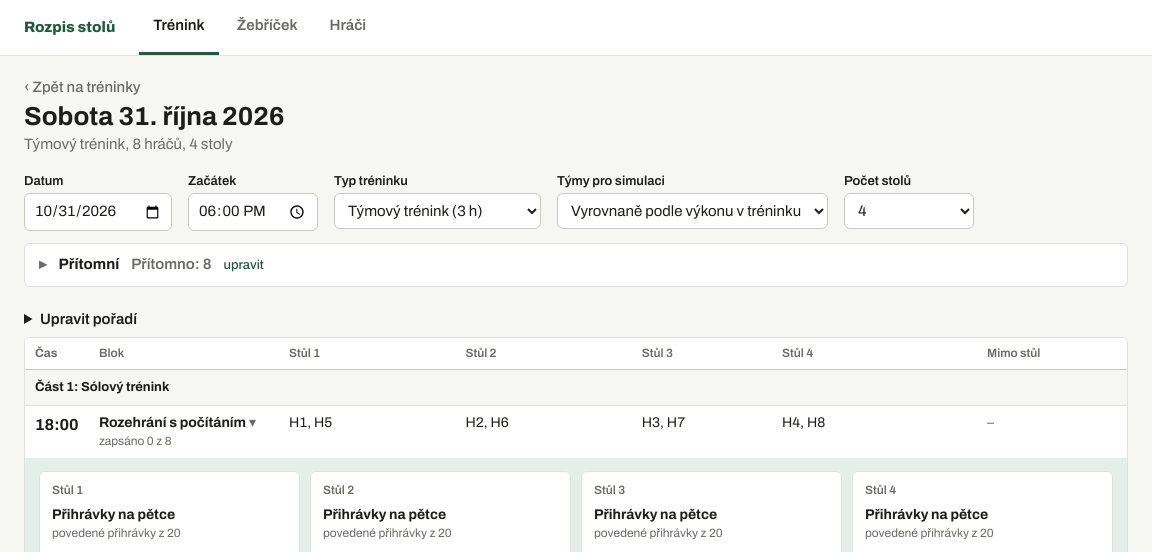
Test: tabulka tréninku › ruční týmy: převezmou se zobrazené a jde přesouvat hráče
Select "Ručně" in the dropdown labelled "Týmy pro simulaci" at (692, 212), box [557,194,828,230]
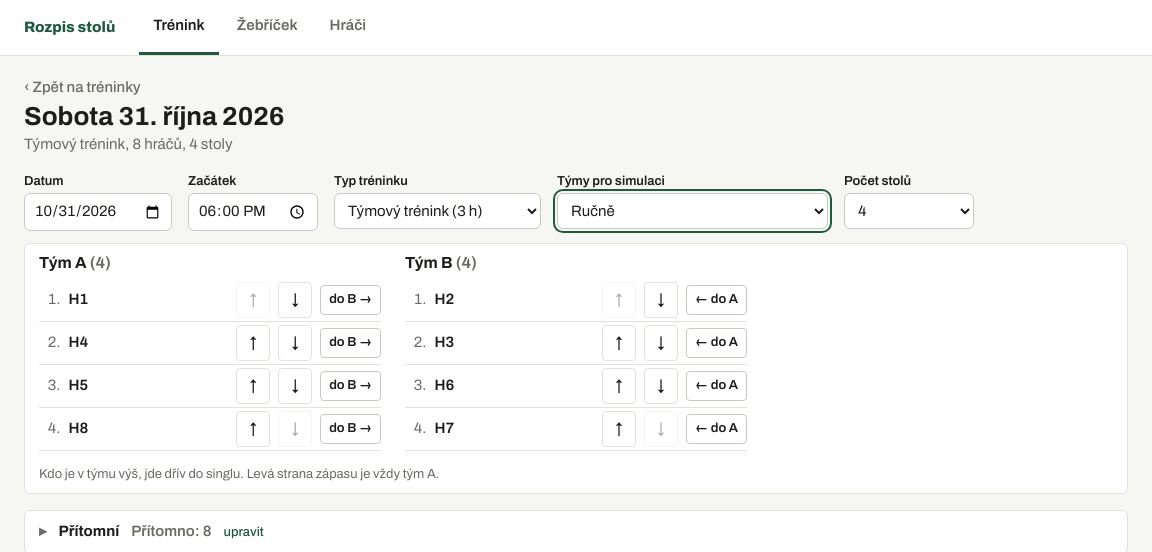
Click the button with aria-label "Přesunout H1 do týmu B" at (351, 300), box [320,285,381,315]
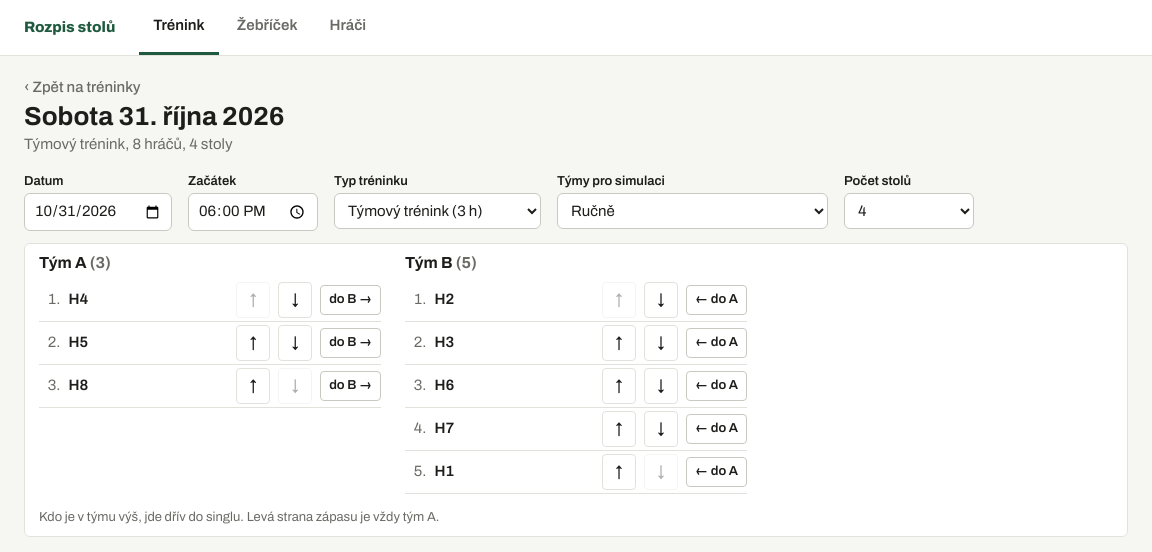
Click the button named "Posunout H1 v týmu nahoru" at (619, 472), box [602,454,636,490]
(page scrolled)
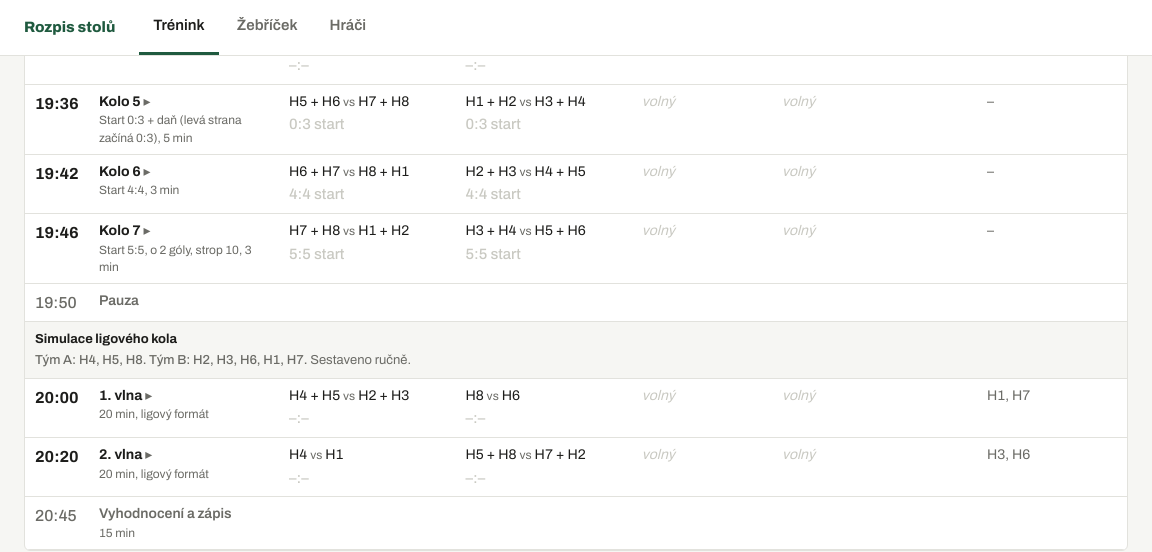
Result: the text "Tým A: H4, H5, H8. Tým B: H2, H3, H6, H1, H7." is shown at [35,353,307,367]
